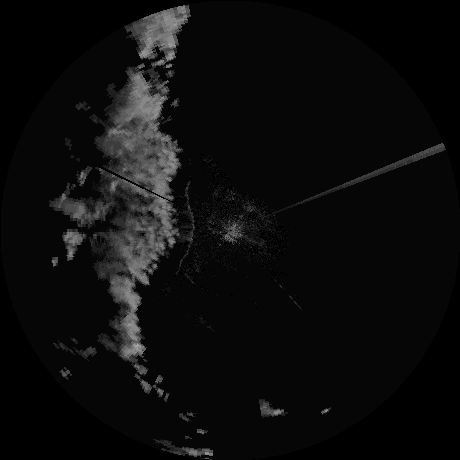frontgust: (177, 180, 195, 265)
